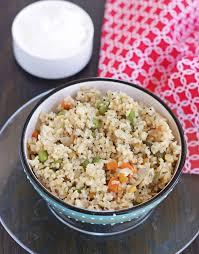upma: (32, 95, 177, 206)
